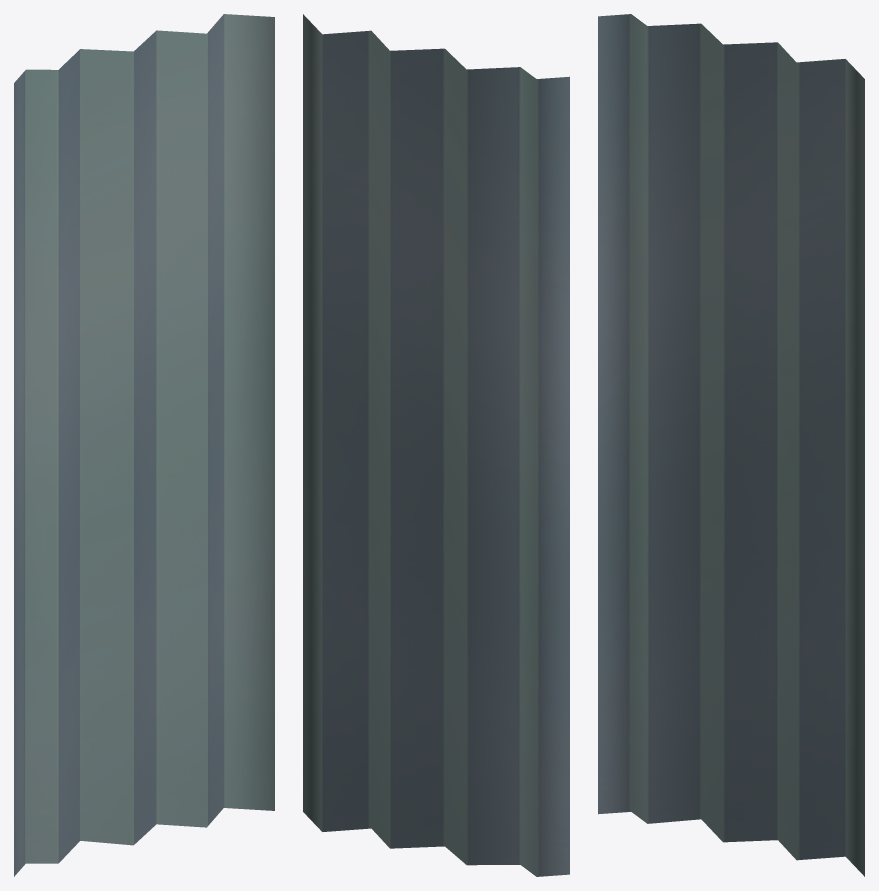
Rendered from Tx_Prop_curtains_11.fbx.
The picture shows the model from 3 angles, left to right: view 1: azimuth 30°, elevation 25°; view 2: azimuth 150°, elevation 25°; view 3: azimuth 330°, elevation 25°; orthographic projection.
Parts seen in each view (by area): view 1: Tx_Prop_curtains_11; view 2: Tx_Prop_curtains_11; view 3: Tx_Prop_curtains_11.
Part boxes in pixels (x1,y1,x2,y2): Tx_Prop_curtains_11: [14, 14, 274, 876]; Tx_Prop_curtains_11: [303, 14, 569, 876]; Tx_Prop_curtains_11: [598, 14, 864, 876].
Bounding box in the file's own units: 4.82 × 13.89 × 0.5804.
